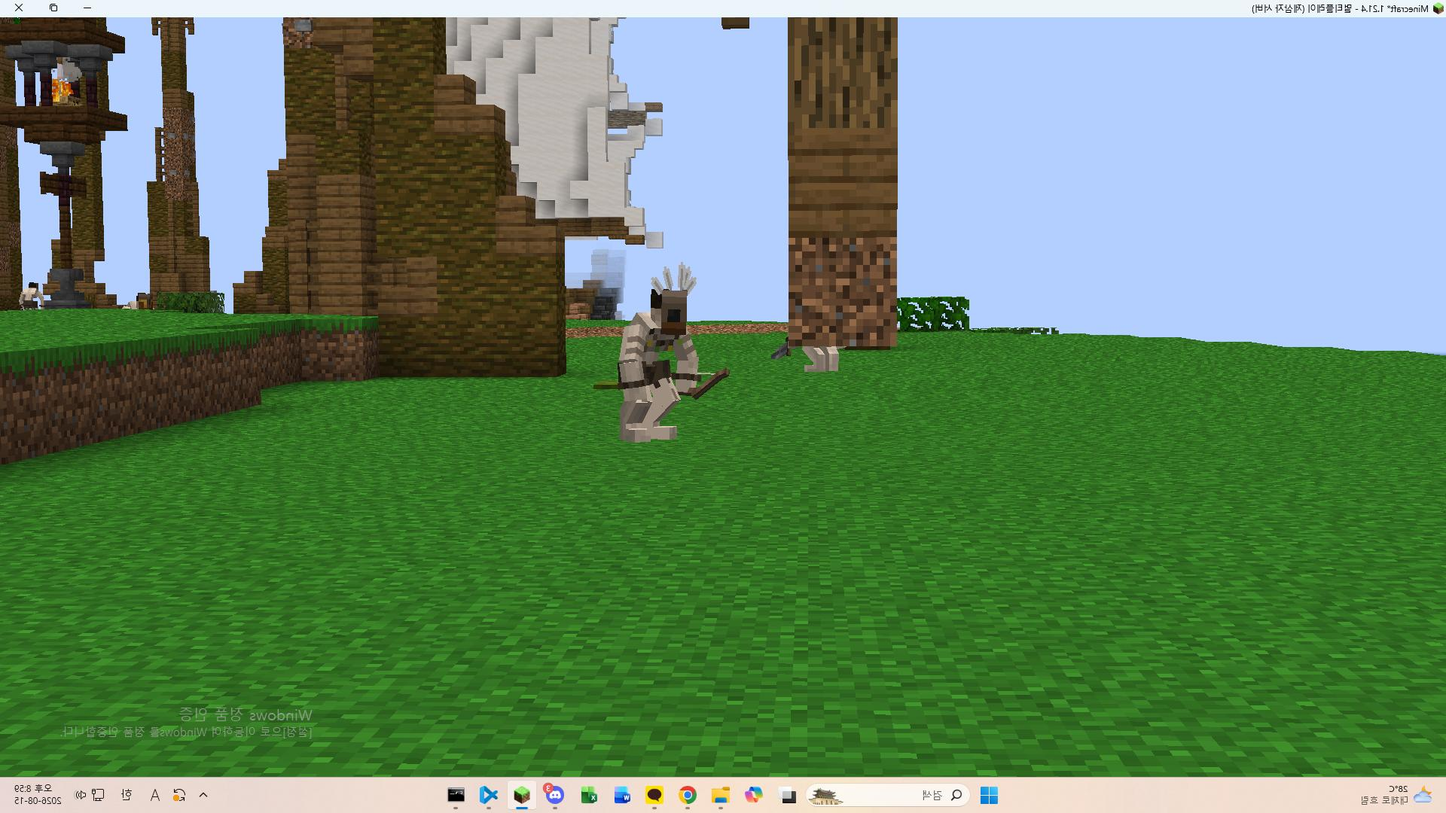bow_indian: (570, 259, 746, 451)
